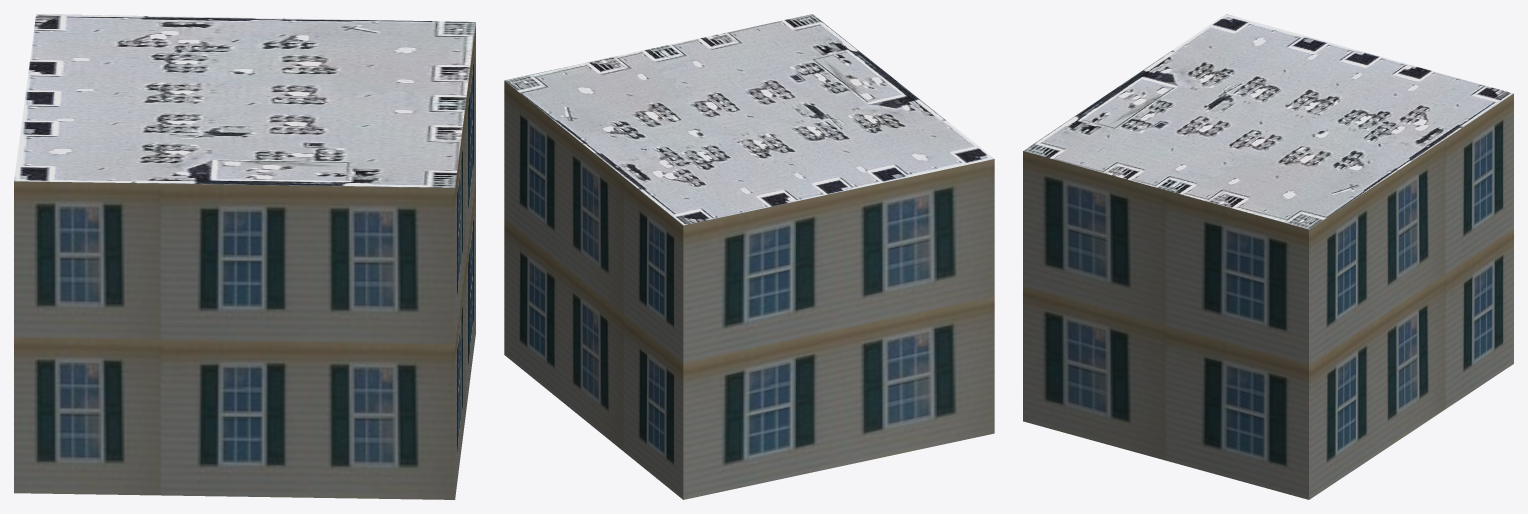
Rendered from ResTex__3621.fbx.
3 views of the same model, side by side, from view 1: azimuth 30°, elevation 25°; view 2: azimuth 150°, elevation 25°; view 3: azimuth 270°, elevation 25° (orthographic). The views are drawn at different scales.
Visible parts, largest first — view 1: CityEngineMaterial_7_m, CityEngineMaterial_m; view 2: CityEngineMaterial_7_m, CityEngineMaterial_m; view 3: CityEngineMaterial_7_m, CityEngineMaterial_m.
Boxes of the visible parts, bbox=[...] form: CityEngineMaterial_7_m: bbox=[14, 23, 475, 499]; CityEngineMaterial_m: bbox=[14, 14, 475, 187]; CityEngineMaterial_7_m: bbox=[504, 80, 994, 499]; CityEngineMaterial_m: bbox=[504, 14, 994, 225]; CityEngineMaterial_7_m: bbox=[1023, 93, 1513, 499]; CityEngineMaterial_m: bbox=[1023, 14, 1513, 229].
Bounding box in the file's own units: 10.26 × 6 × 9.87.
2 materials, 2 textured.
